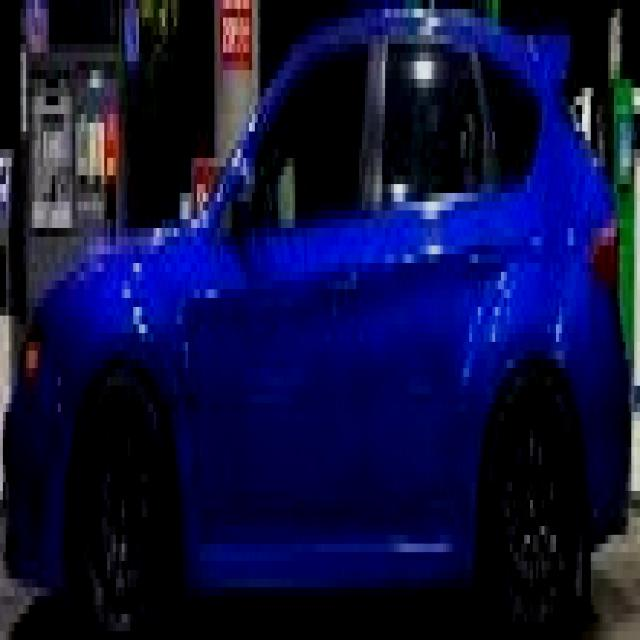blue: (2, 6, 632, 637)
